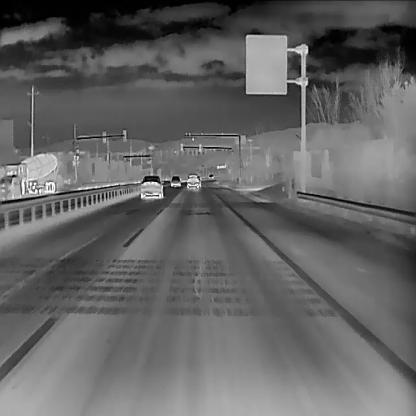car: (0, 151, 59, 193), (138, 174, 164, 197), (0, 173, 20, 197), (186, 173, 199, 189), (170, 174, 181, 186)
